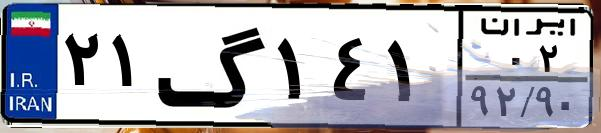0: (560, 70, 590, 125), (508, 27, 537, 80)
1: (270, 28, 330, 110), (385, 28, 445, 110), (110, 28, 156, 98)
2: (57, 26, 110, 100), (537, 27, 568, 80), (495, 70, 520, 125)
4: (330, 28, 385, 110)
9: (470, 70, 495, 125), (535, 70, 560, 125)
گ: (156, 12, 270, 120)
